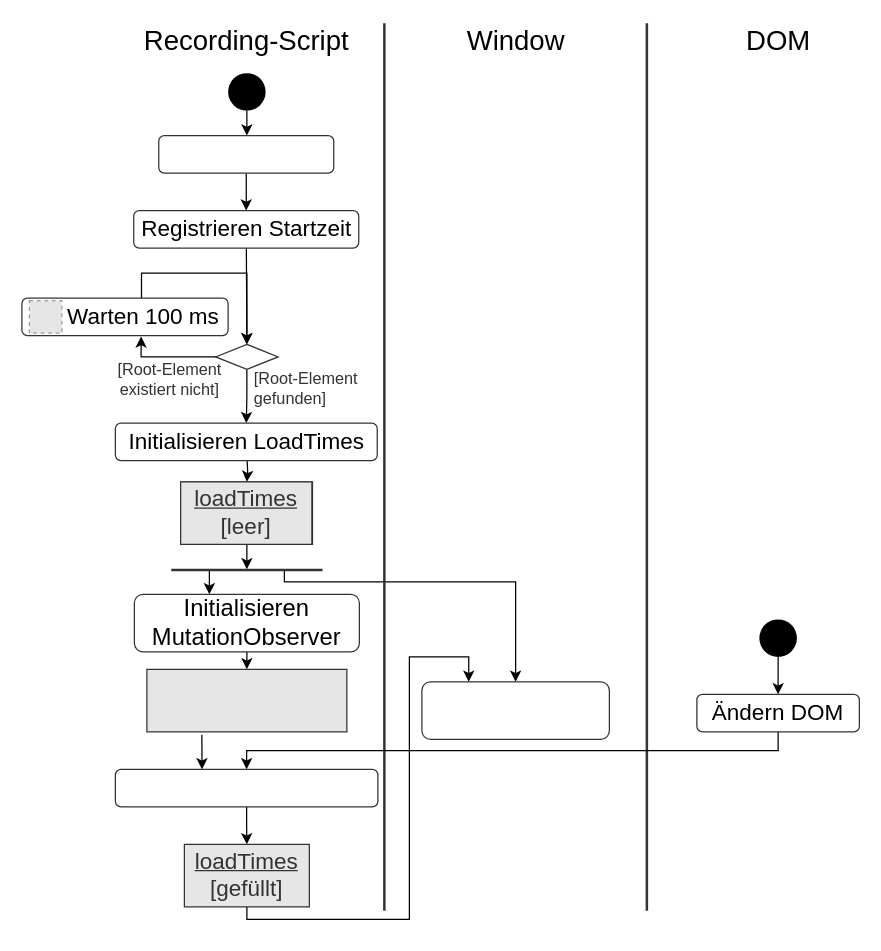
Image size: 881x951. Some labels were removed from this diagram. Grey dashed boxes stand in for pictures. Here are the shapes that lost their labels. From the top down, the centre of each, then its label:
At [246,153]: "Injecten Skript".
At [246,700]: "MutationObserver [initialisiert]".
At [515,710]: "Veröffentlichen loadTimes".
At [246,787]: "Speichern der Mutations".
